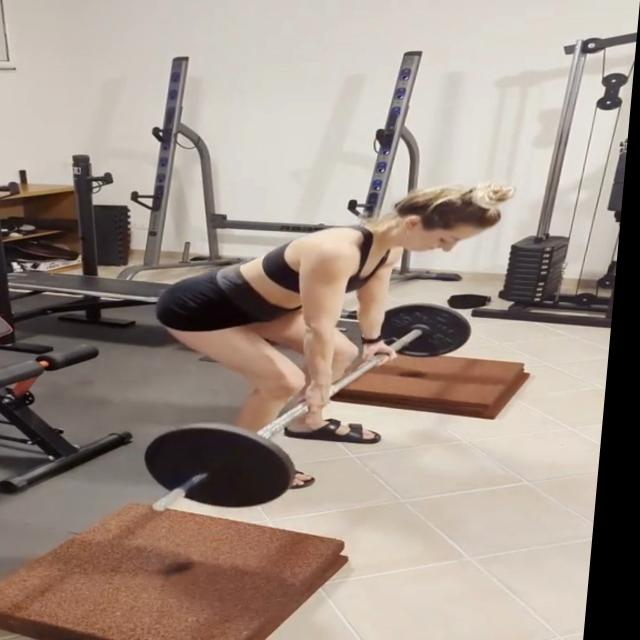barbell: (145, 421, 312, 519)
